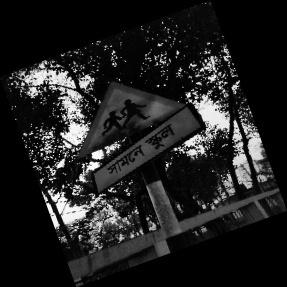School-in-front: (78, 81, 205, 194)
